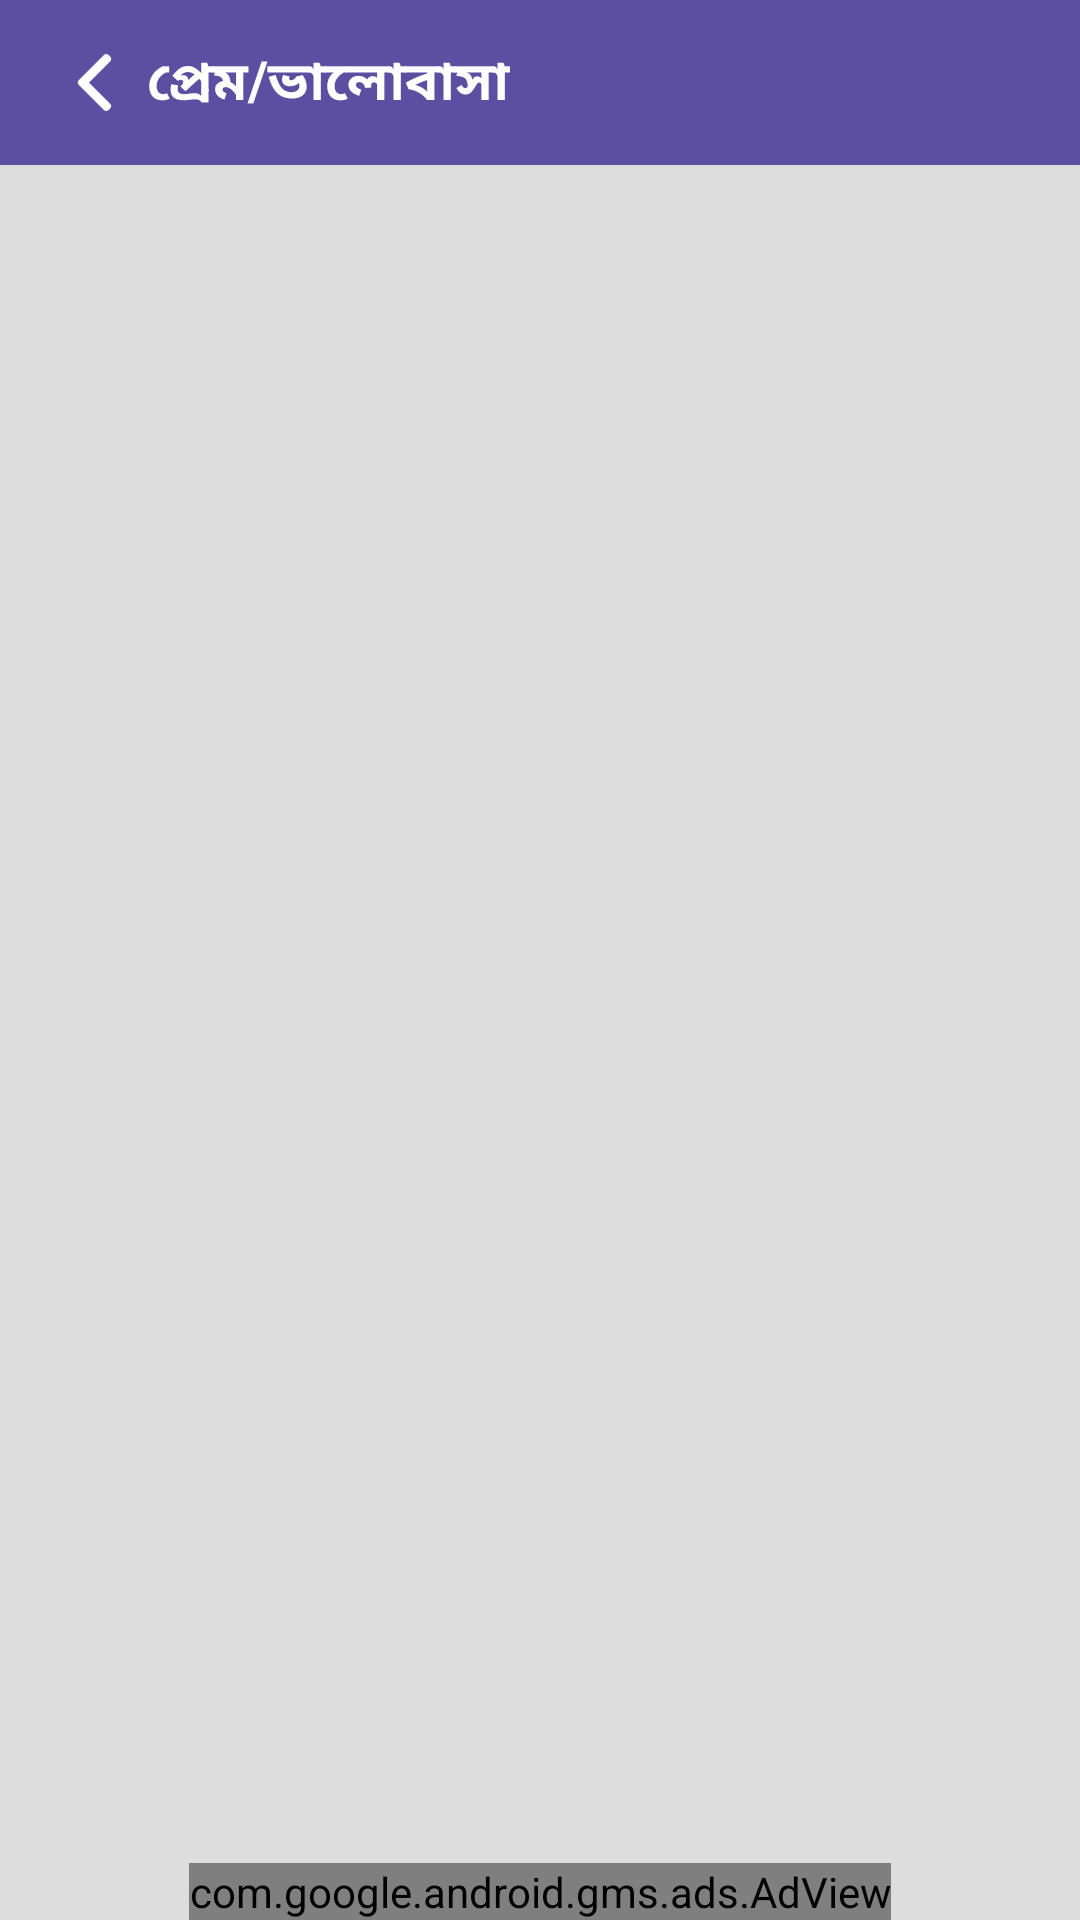

Named icons in this screenshot (1080*1920) and their bounding boxes, (x1, y1, x2, y2):
left arrow: (77, 54, 111, 111)
